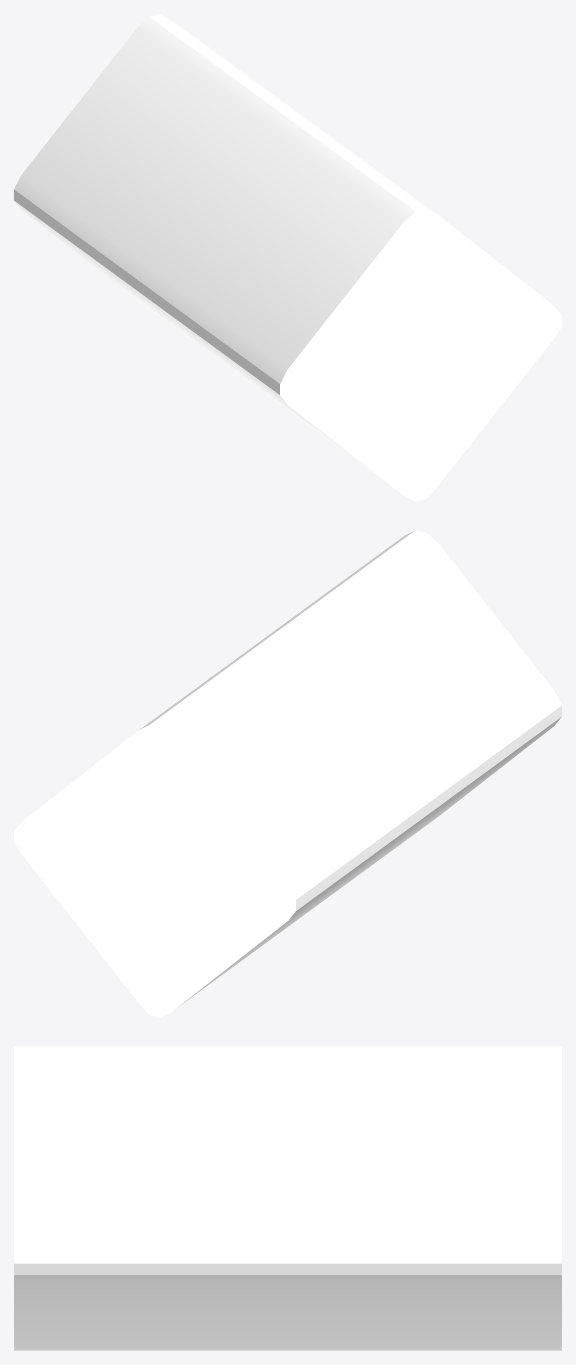
The picture shows the model from 3 angles, top to bottom: view 1: azimuth 30°, elevation 25°; view 2: azimuth 150°, elevation 25°; view 3: azimuth 270°, elevation 25°; orthographic projection. The views are drawn at different scales.
Visible parts, largest first — view 1: ._Soul_White; view 2: ._Soul_White; view 3: ._Soul_White.
Part boxes in pixels (<box>): ._Soul_White: <box>14,14,561,501</box>; ._Soul_White: <box>14,530,561,1017</box>; ._Soul_White: <box>14,1046,561,1350</box>.
Size of what is drawn, in the model's own units: 0.0275 by 0.0271 by 0.045.
Materials: 2 (2 with a texture image).
